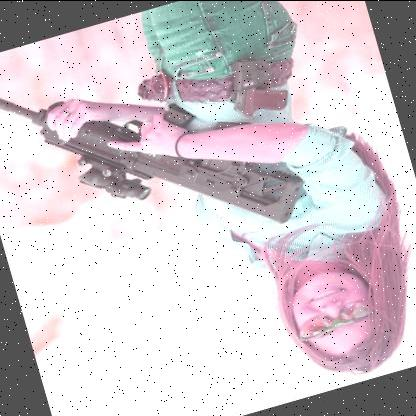rifle: (0, 15, 316, 301)
